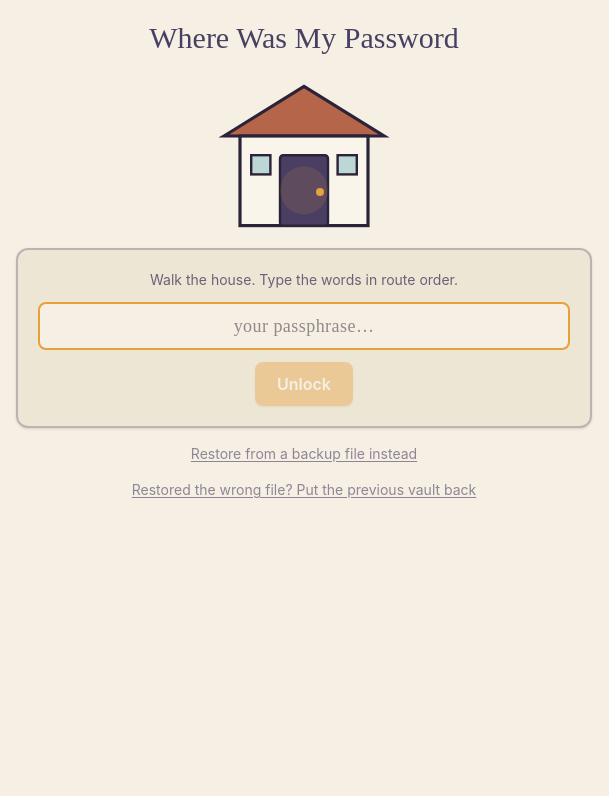
Test: the undo offer (`decisions/0016`, gated by `0018`) › refuses to swap for someone who cannot open the vault set aside
This screenshot has width=609, height=796.
Click the button "Restored the wrong file? Put the previous vault back".
click(304, 490)  # box [132,480,476,500]
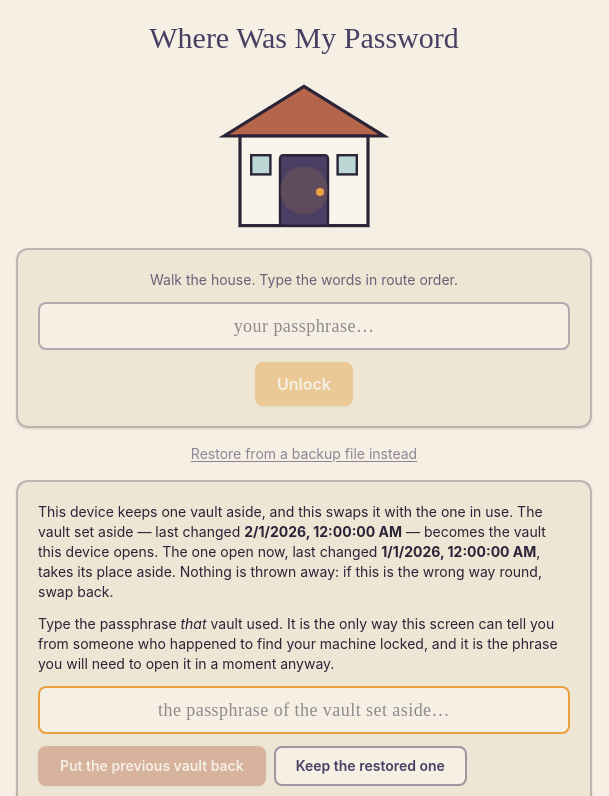
Type "not the archived vault’s phrase" into the password field with placeholder "the passphrase of the vault set aside…".
click(304, 710); type("not the archived vault’s phrase")  # box [38,686,570,734]
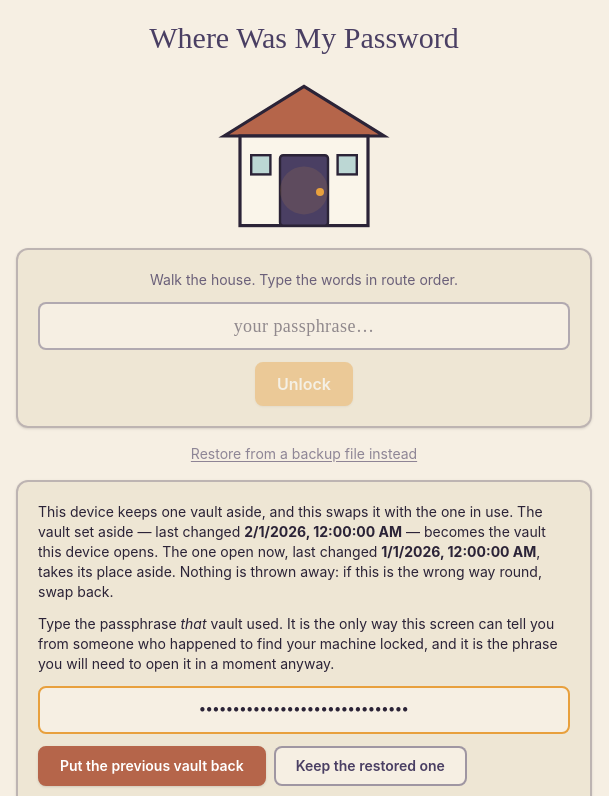
Click the button "Put the previous vault back".
click(152, 766)  # box [38,746,266,786]
(page scrolled)
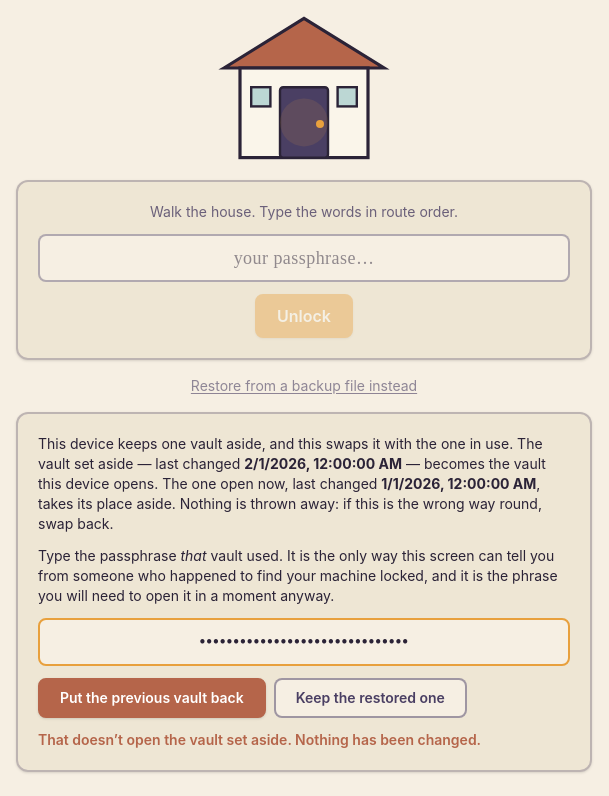
Expected: the text "doesn’t open the vault set aside" is shown, [38,731,481,748]
